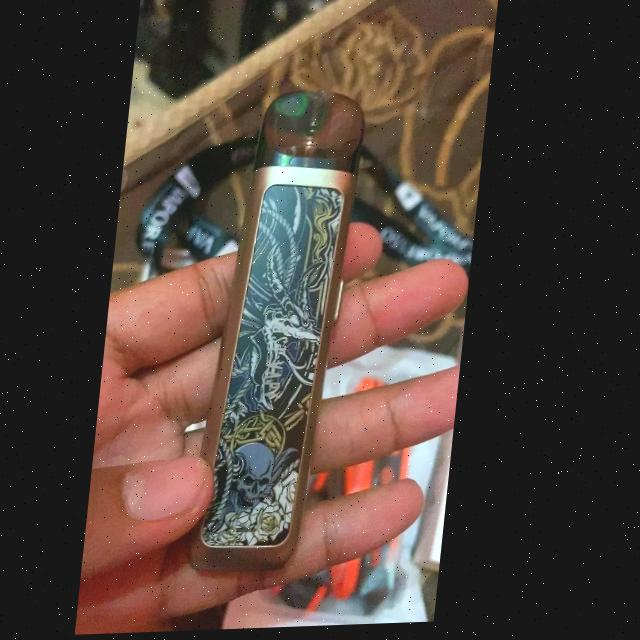vape: (195, 91, 365, 575)
